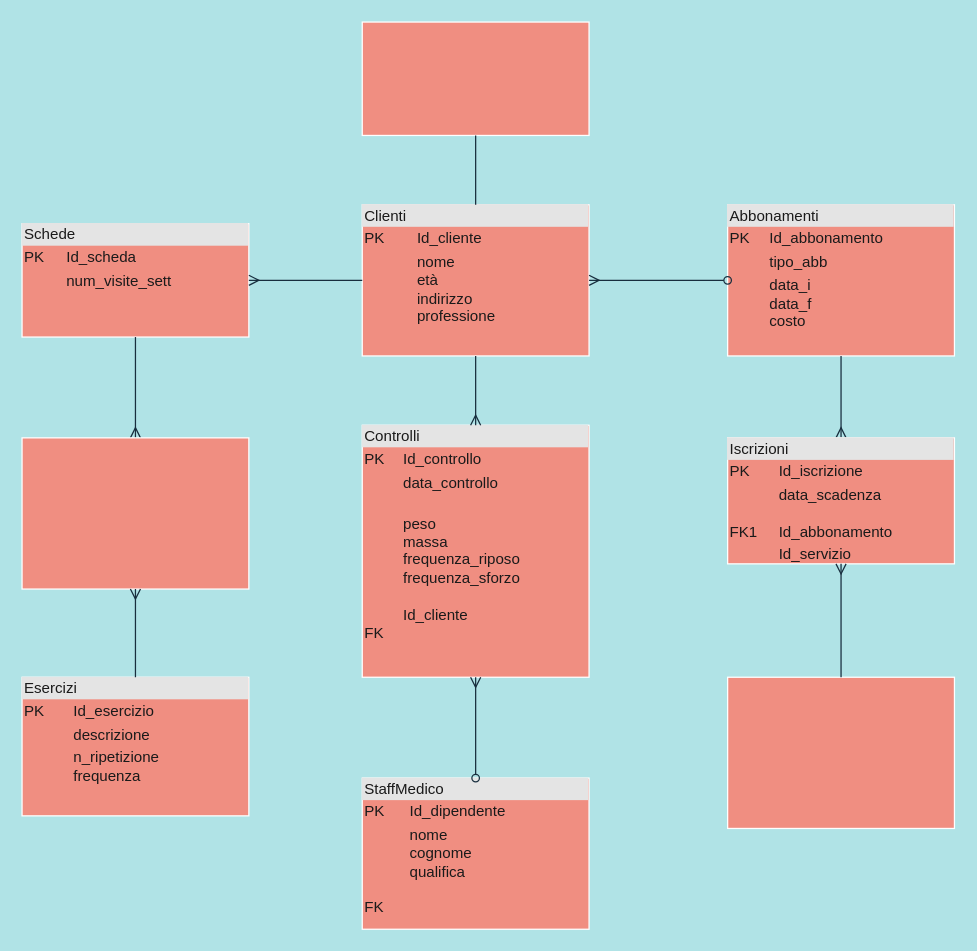
The diagram is 977 pixels wide and 951 high, and some of its shapes have lost their labels. The centre of each missing label's shape, as x and y in pixels:
Diete PK Id_dieta FK descrizione Id_cliente: (475,78)
Servizi PK Id_servizio tipo FK costo_agg Id_palestra: (840,752)
Tablename PK Id_scheda_es FK n_ripetizioni frequenza Id_scheda Id_esercizio: (135,513)
